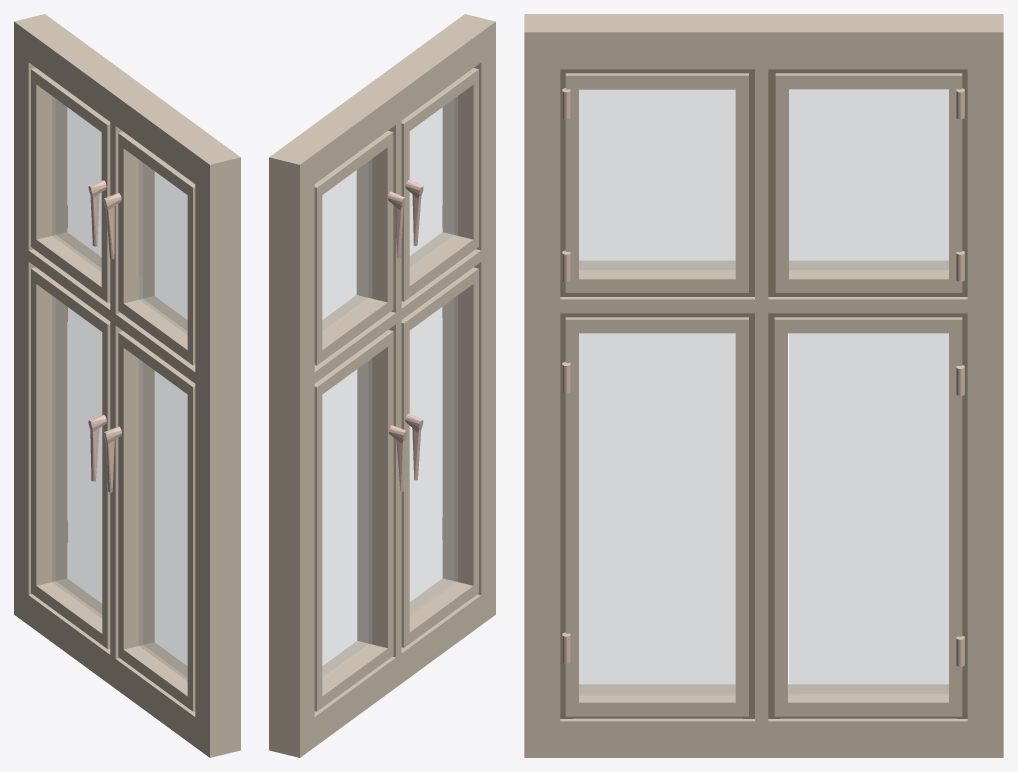
Rendered from Window.fbx.
The picture shows the model from 3 angles, left to right: view 1: azimuth 30°, elevation 25°; view 2: azimuth 150°, elevation 25°; view 3: azimuth 270°, elevation 25°; orthographic projection. The views are drawn at different scales.
Visible parts, largest first — view 1: Window; view 2: Window; view 3: Window.
Part boxes in pixels (bbox=[...]): Window: bbox=[14, 14, 240, 757]; Window: bbox=[269, 14, 495, 757]; Window: bbox=[524, 14, 1003, 757].
Bounding box in the file's own units: 91.46 × 13.95 × 153.
